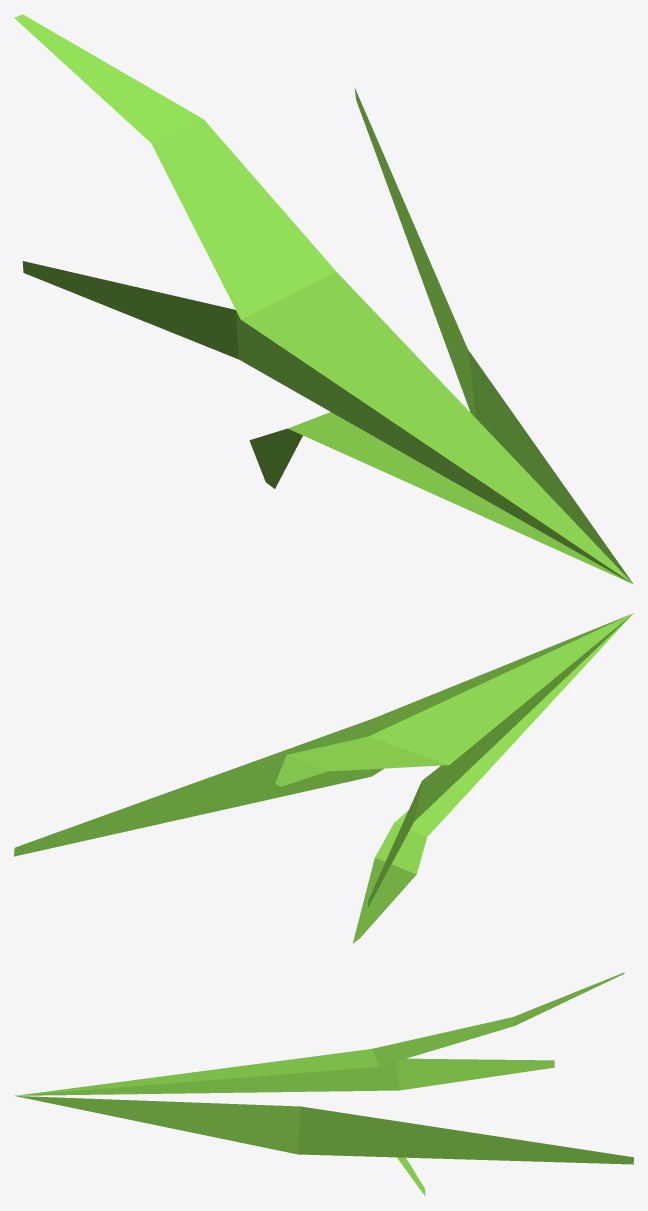
The model's file is Grass_Blades_002.fbx.
The picture shows the model from 3 angles, top to bottom: view 1: azimuth 30°, elevation 25°; view 2: azimuth 150°, elevation 25°; view 3: azimuth 270°, elevation 25°; orthographic projection. The views are drawn at different scales.
Parts seen in each view (by area): view 1: GrassBlade.002; view 2: GrassBlade.002; view 3: GrassBlade.002.
Part boxes in pixels (bbox=[...]): GrassBlade.002: bbox=[14, 14, 633, 584]; GrassBlade.002: bbox=[14, 613, 633, 943]; GrassBlade.002: bbox=[14, 972, 633, 1195].
Size of the model in its own units: 877 by 752 by 2083.
